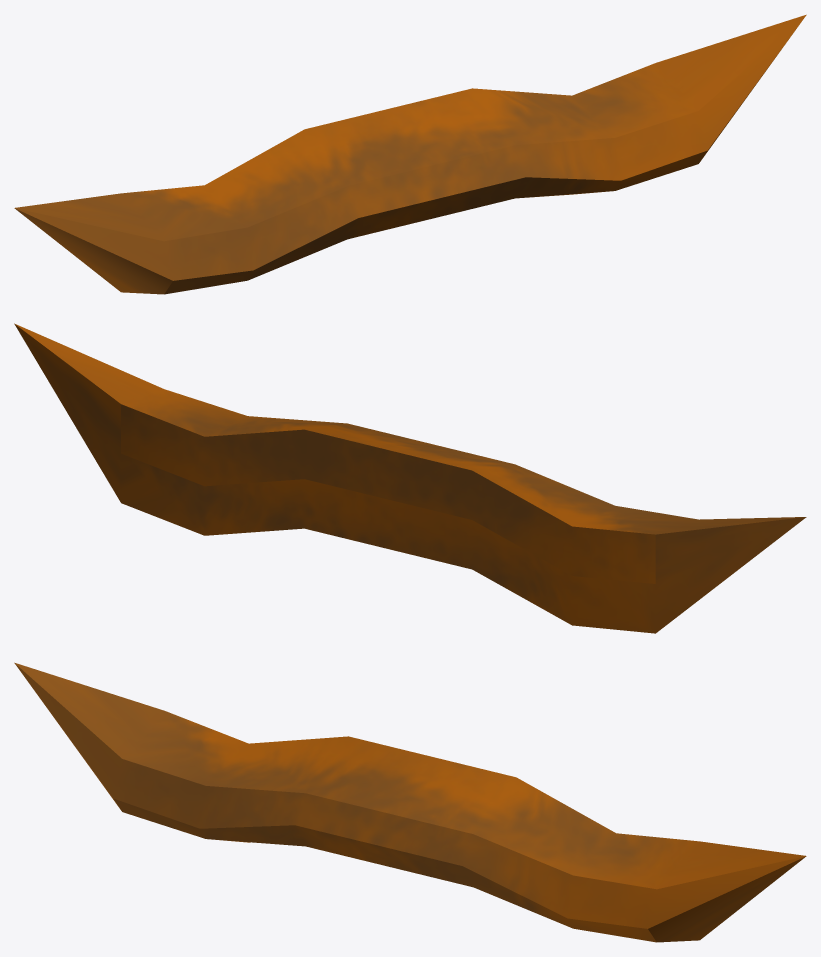
Rendered from pigode.fbx.
The picture shows the model from 3 angles, top to bottom: view 1: azimuth 30°, elevation 25°; view 2: azimuth 150°, elevation 25°; view 3: azimuth 330°, elevation 25°; orthographic projection.
Visible parts, largest first — view 1: pigode; view 2: pigode; view 3: pigode.
Boxes of the visible parts, bbox=[...] form: pigode: bbox=[14, 14, 806, 294]; pigode: bbox=[14, 323, 806, 633]; pigode: bbox=[14, 662, 806, 942].
Bounding box in the file's own units: 20.04 × 3.49 × 2.35.
